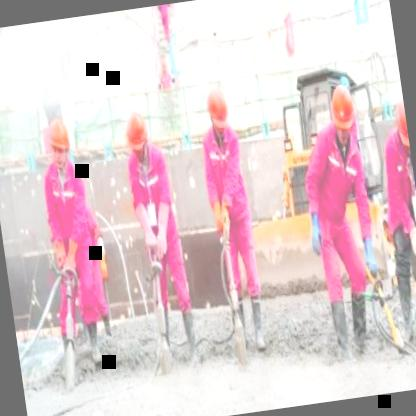helmet: (324, 78, 362, 147), (39, 110, 76, 167), (119, 106, 153, 164), (202, 80, 234, 138), (389, 92, 410, 150)
